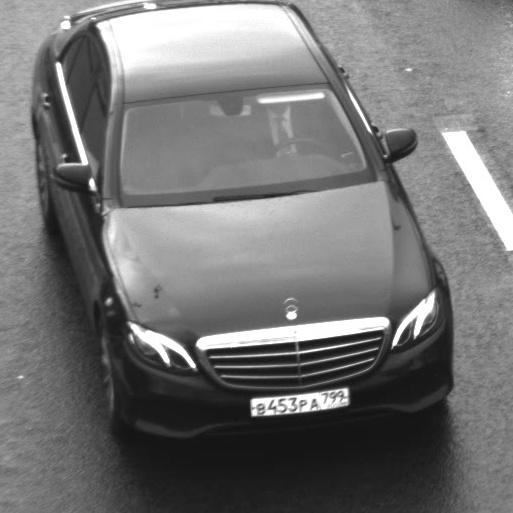plate: (239, 376, 358, 423)
